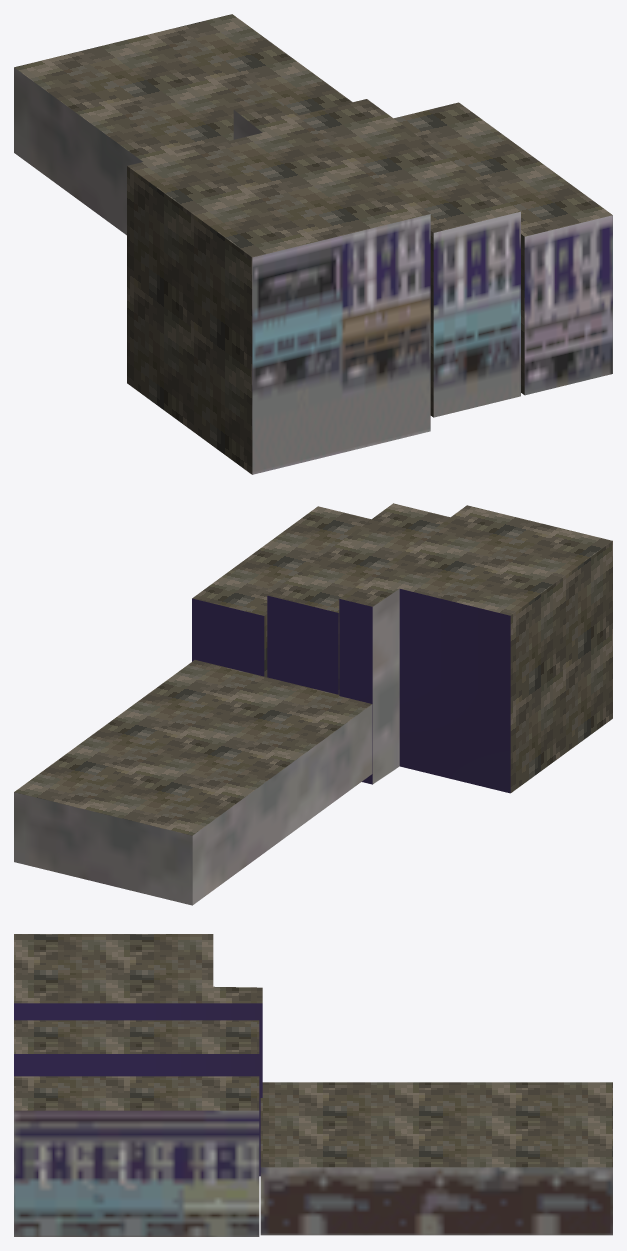
File: lod_sfs053.obj
3 renders of one model, top to bottom at view 1: azimuth 30°, elevation 25°; view 2: azimuth 150°, elevation 25°; view 3: azimuth 270°, elevation 25°, orthographic. The views are drawn at different scales.
Parts seen in each view (by area): view 1: LOD_sfs053; view 2: LOD_sfs053; view 3: LOD_sfs053.
Boxes of the visible parts, x1,y1,x2,y2 form: LOD_sfs053: [14, 14, 612, 474]; LOD_sfs053: [14, 503, 612, 905]; LOD_sfs053: [14, 934, 612, 1236].
Bounding box in the file's own units: 34.39 × 19.8 × 62.13.
3 materials, 3 textured.
